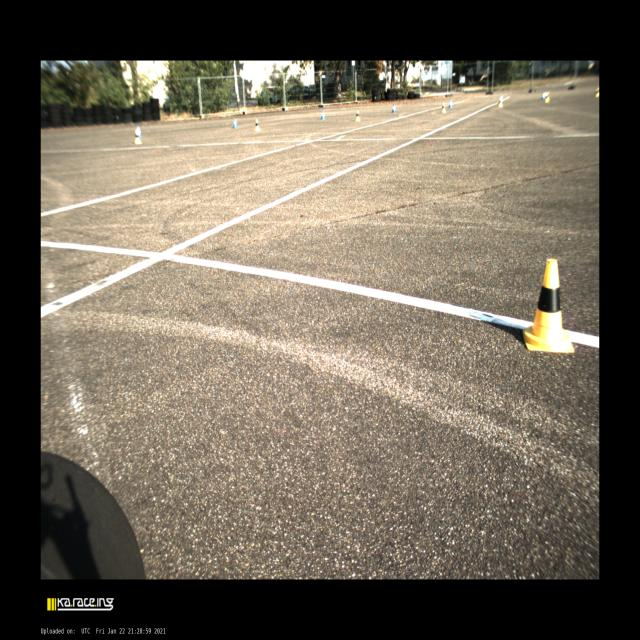blue_cone: (232, 118, 238, 128), (320, 110, 326, 119), (448, 100, 452, 108), (392, 104, 396, 112), (541, 92, 545, 100)
yellow_cone: (523, 259, 574, 352), (134, 130, 141, 144), (254, 119, 261, 131), (441, 102, 447, 113), (355, 110, 360, 121), (498, 98, 502, 107), (546, 94, 548, 102)
